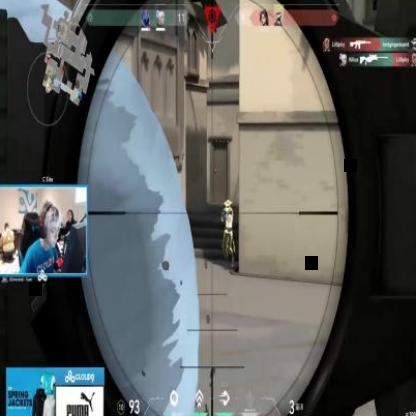enemy: (220, 199, 235, 267)
enemy_head: (224, 199, 232, 209)
